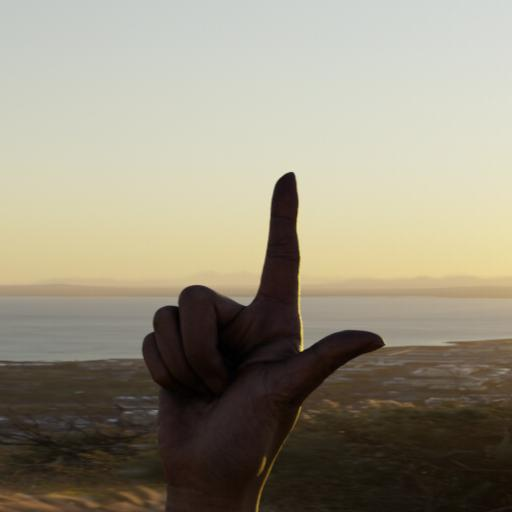L: (126, 161, 390, 484)
